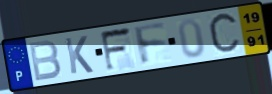0: (177, 17, 207, 60)
B: (27, 39, 63, 84)
C: (206, 10, 242, 58)
F: (132, 22, 170, 68), (99, 25, 134, 74)
K: (63, 34, 95, 76)
